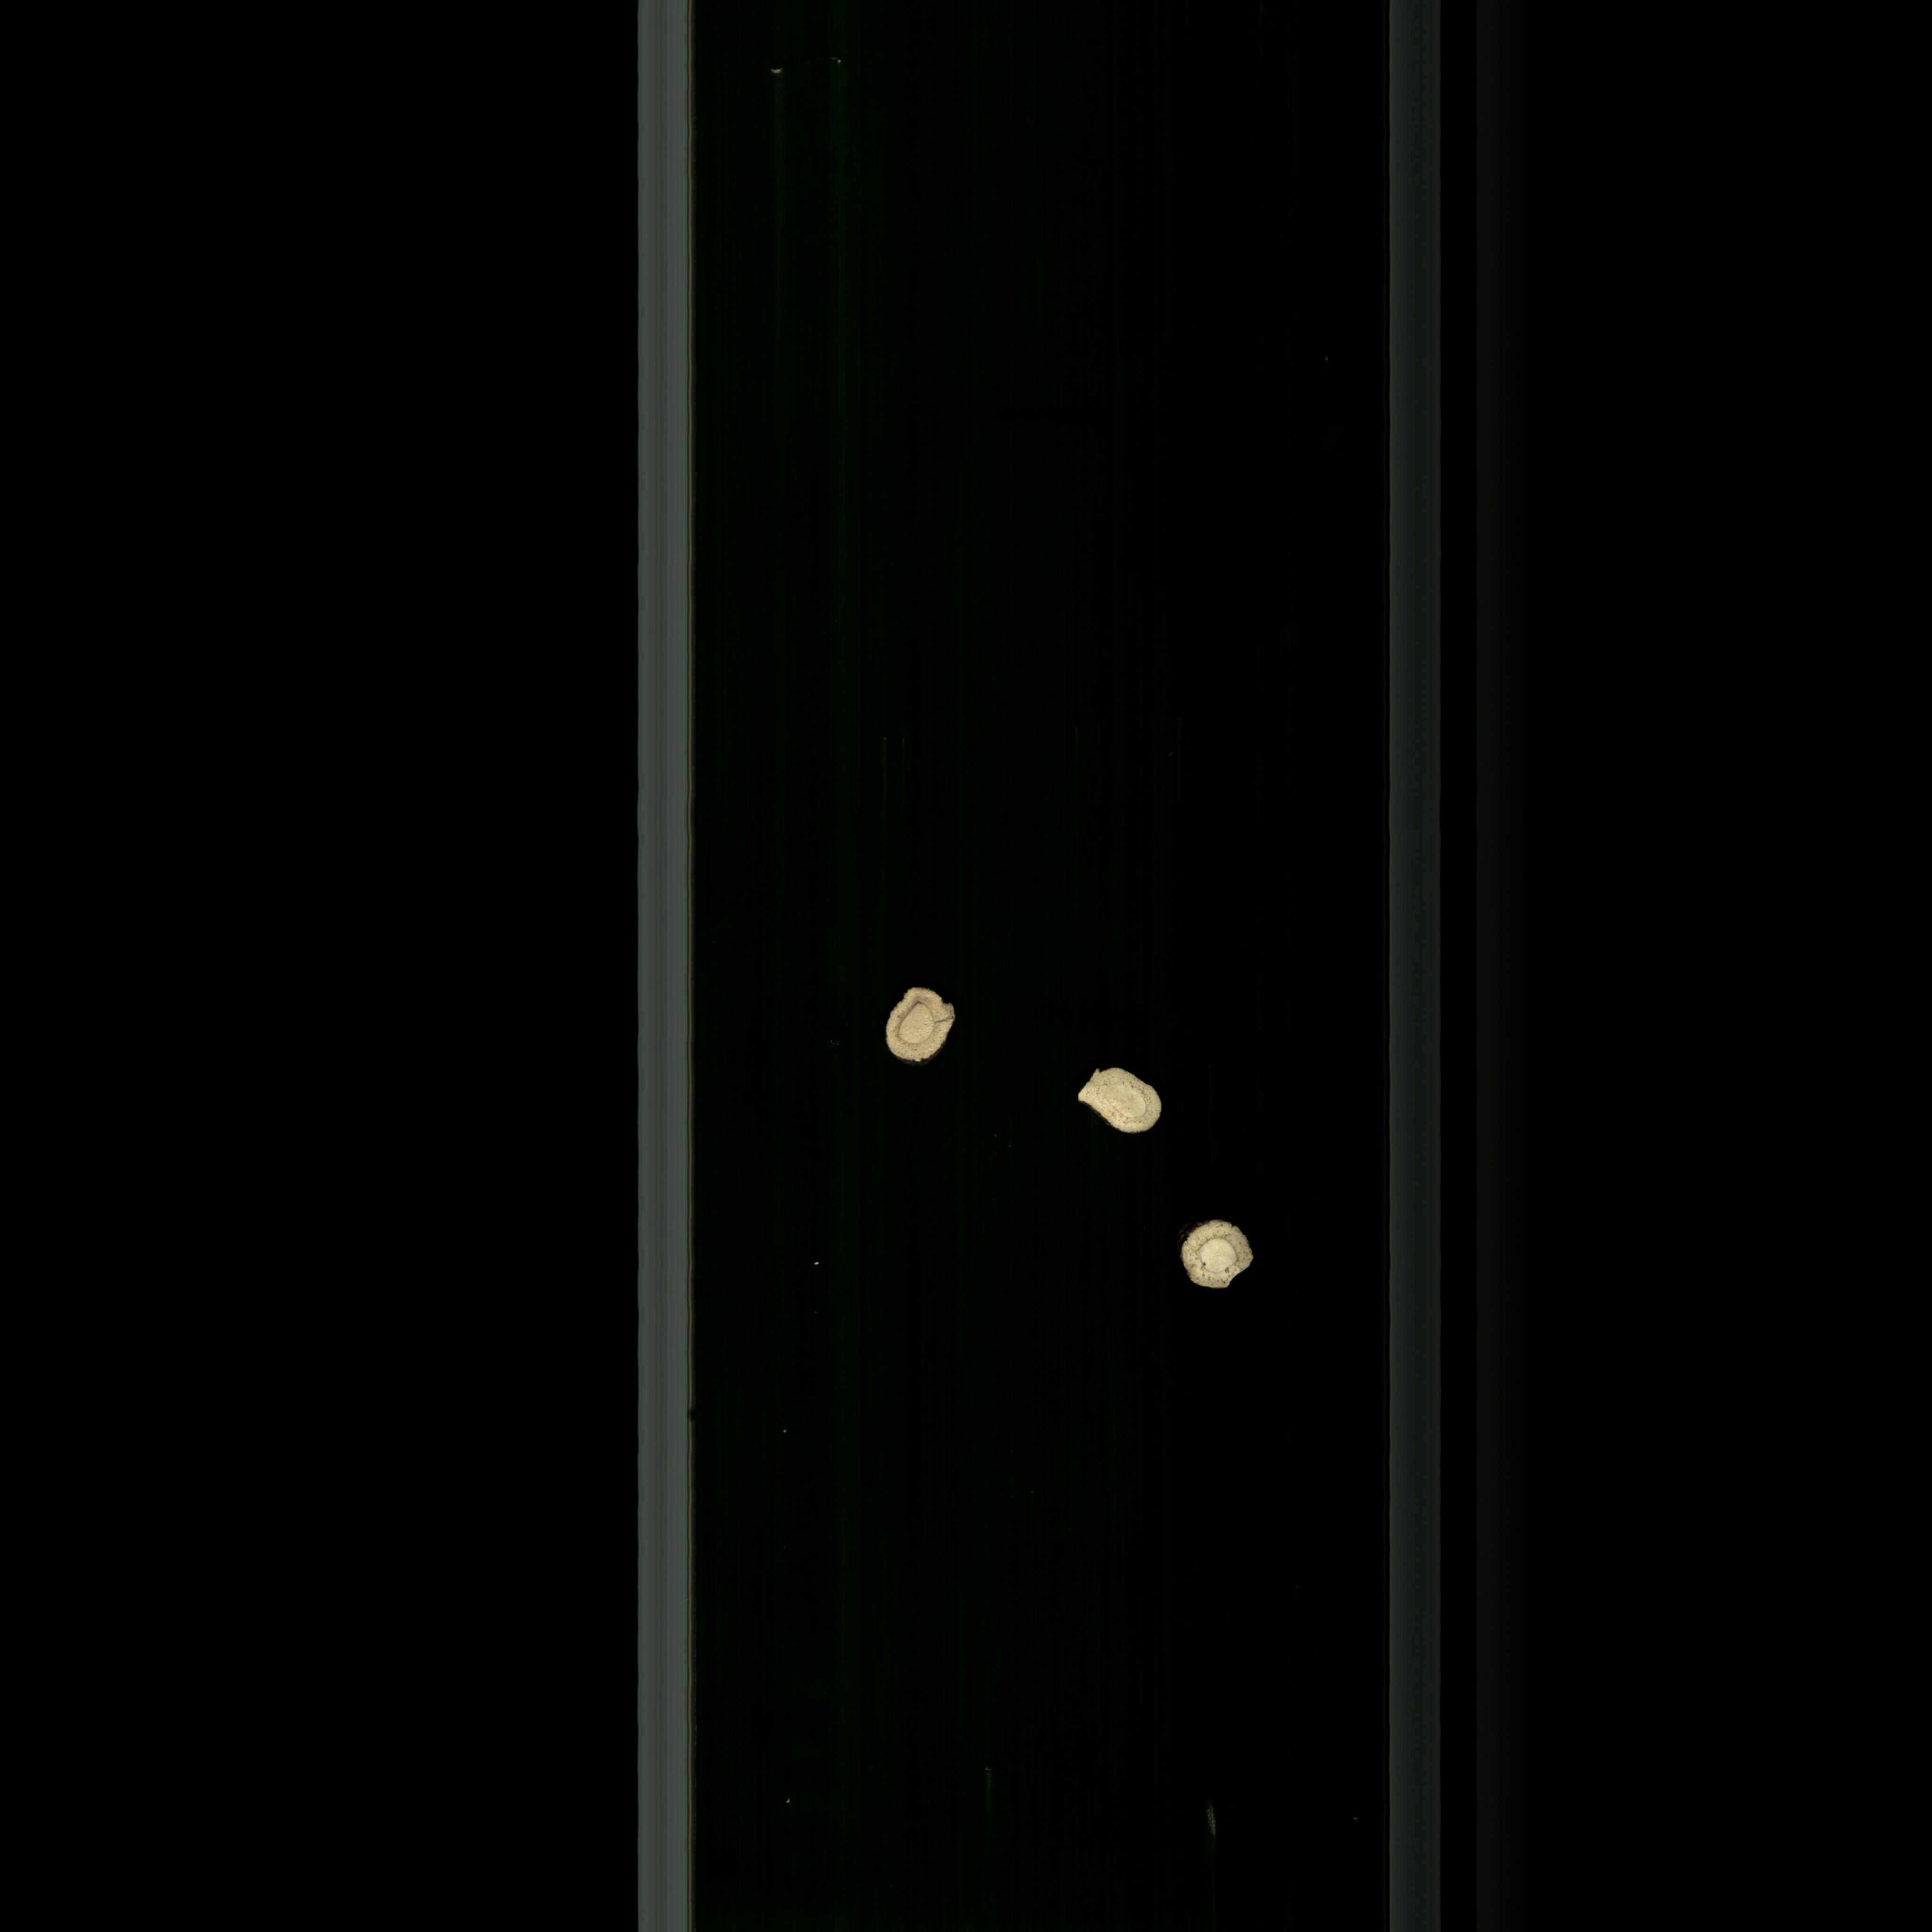debris: (1169, 1207, 1267, 1307)
distortion: (1063, 1056, 1171, 1146)
